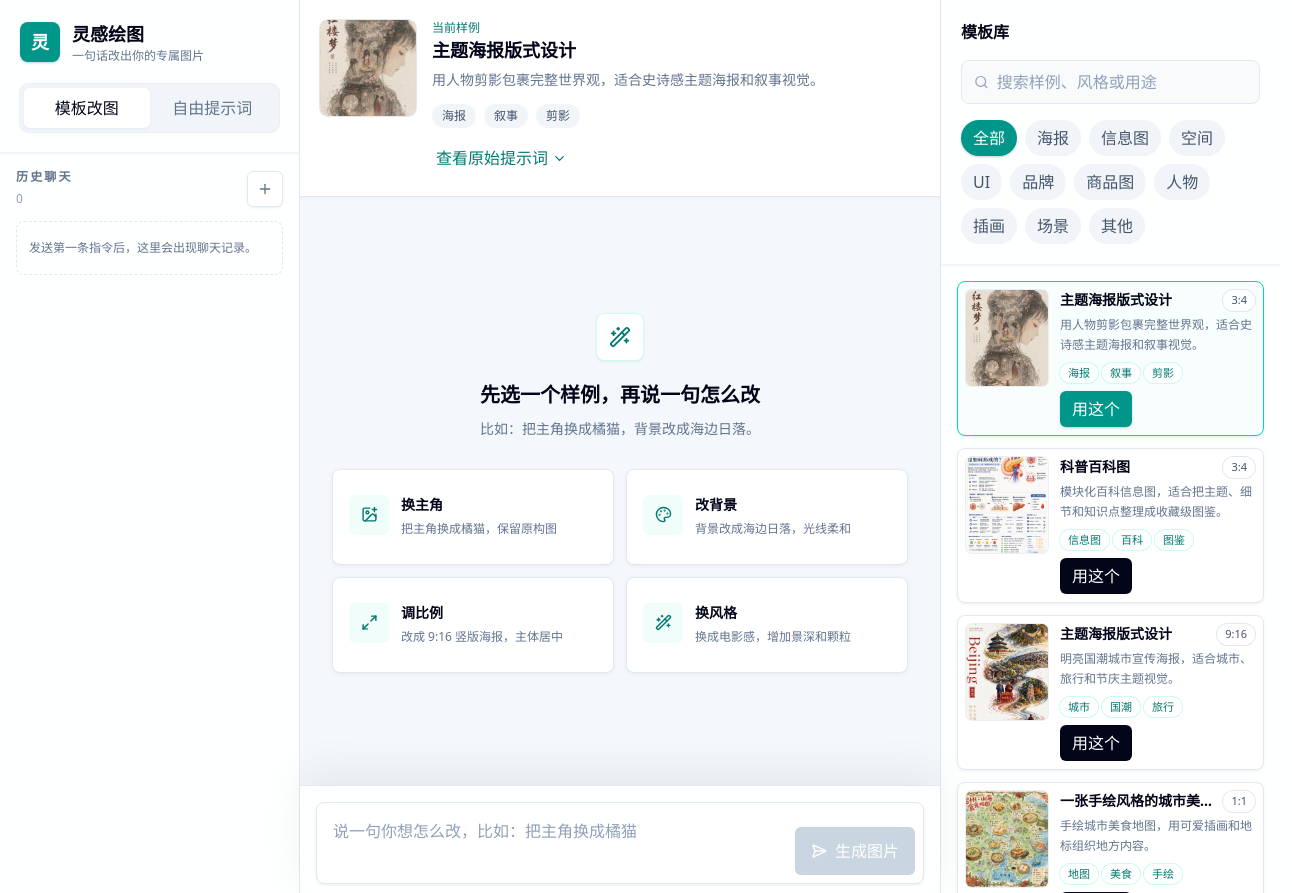
prompt remix workspace › shows a specific message when image generation times out
Type "改成手机样品图" into the text box with placeholder "说一句你想怎么改，比如：把主角换成橘猫" at coordinates (556, 843), box 325,811 -> 787,875
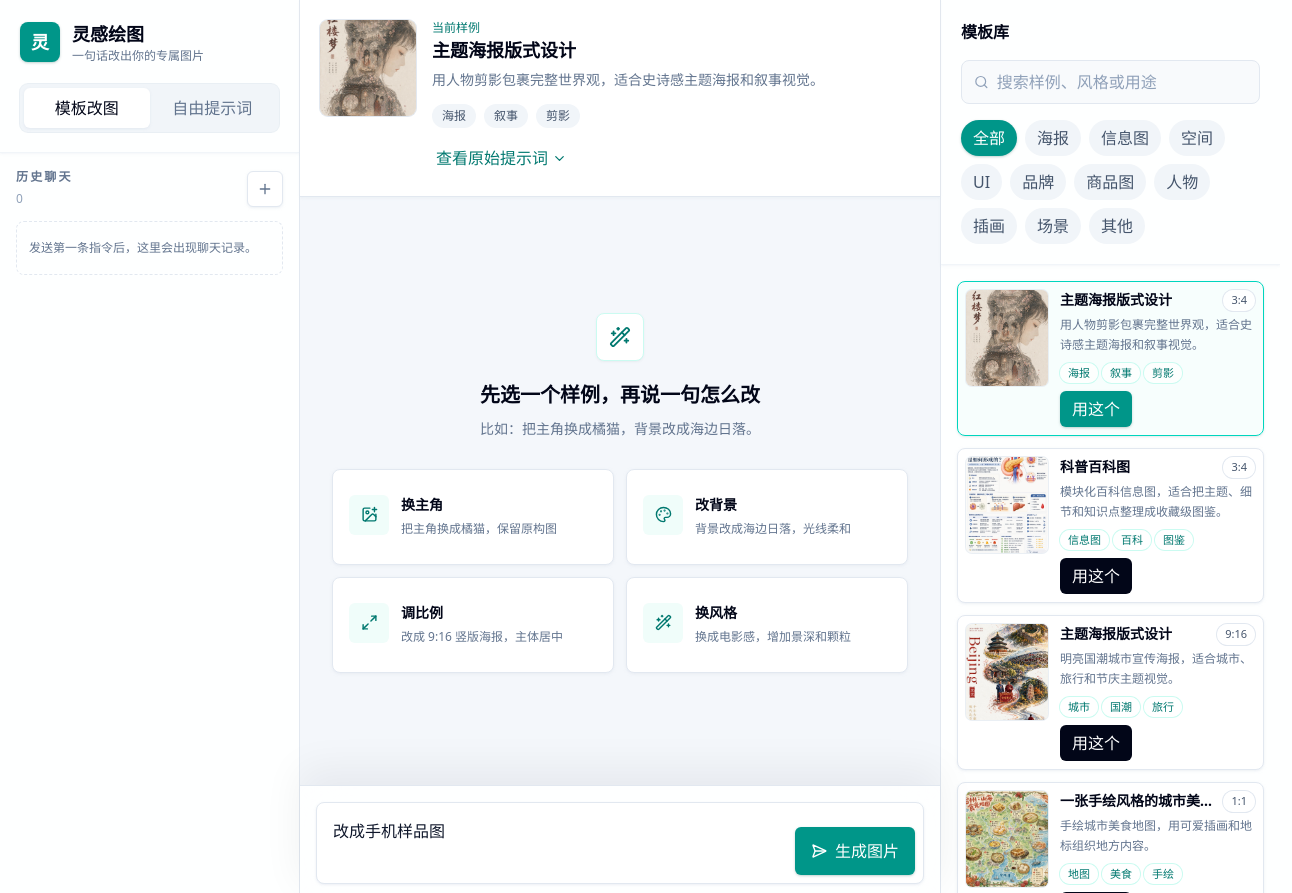
Click the button "生成图片" at coordinates (855, 851), box 795,827 -> 915,875
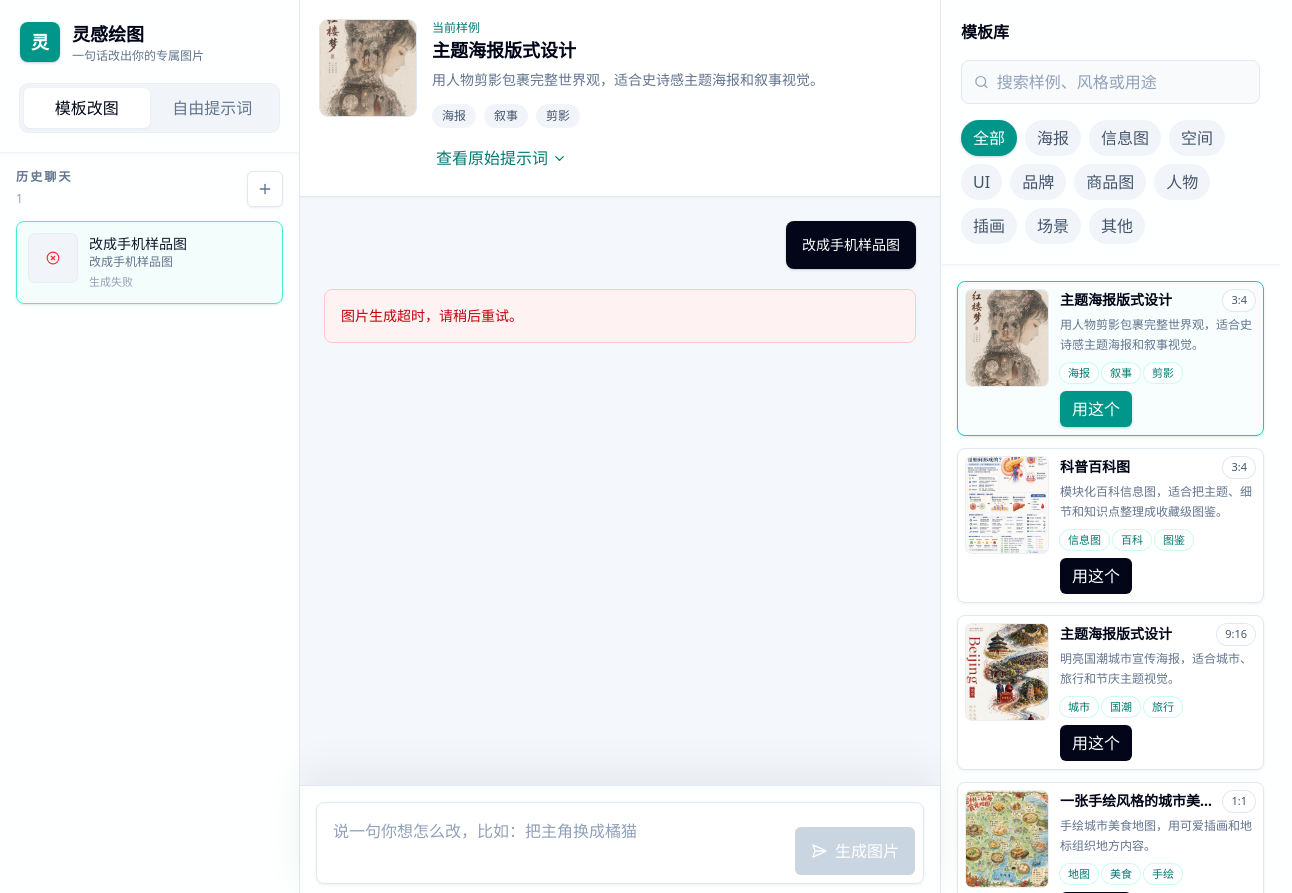
Now the text "图片生成超时，请稍后重试。" is shown, box 341,306 -> 523,325
